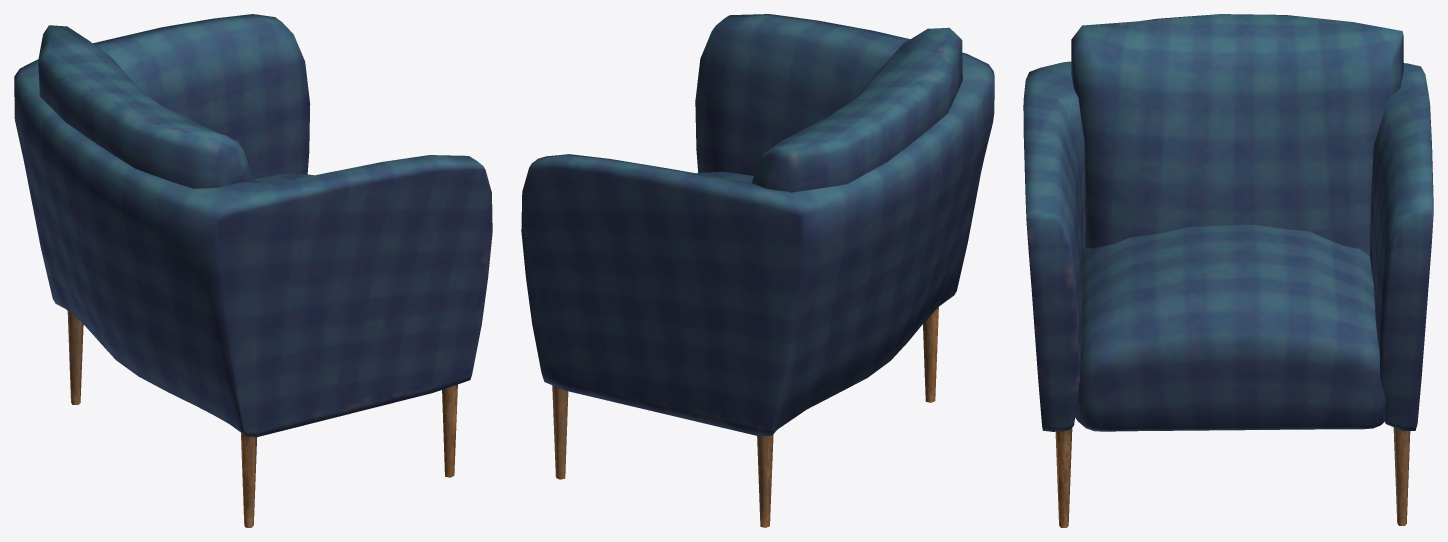
Rendered from chair7.fbx.
3 renders of one model, left to right at view 1: azimuth 30°, elevation 25°; view 2: azimuth 150°, elevation 25°; view 3: azimuth 270°, elevation 25°, orthographic.
Parts seen in each view (by area): view 1: SM_arm_chair_001; view 2: SM_arm_chair_001; view 3: SM_arm_chair_001.
Boxes of the visible parts, box(x1,y1,x2,y2) form: SM_arm_chair_001: box(14, 14, 492, 527); SM_arm_chair_001: box(521, 14, 994, 527); SM_arm_chair_001: box(1023, 14, 1433, 527).
Size of the model in its own units: 0.6791 by 0.7961 by 0.7636.
Materials: 1 (1 with a texture image).
